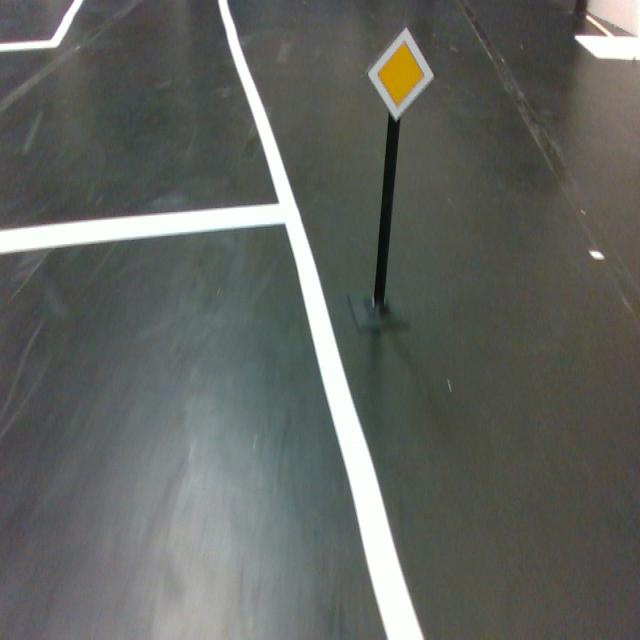priority-sign: (366, 25, 436, 123)
